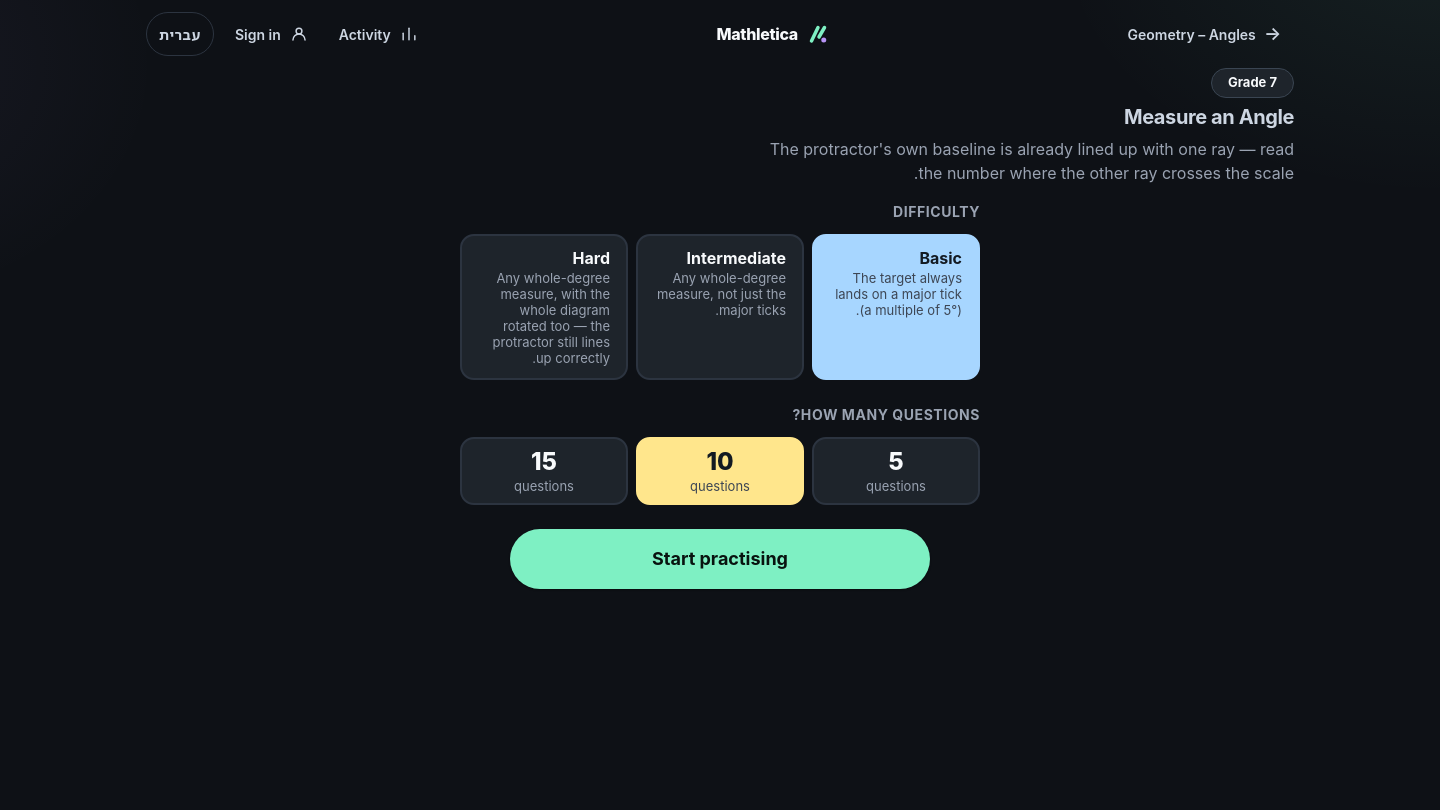
Test case: Measure an Angle training activity (digital protractor) › renders the scene, a protractor overlay with its full tick range, and a numeric input
This screenshot has width=1440, height=810.
Click the button with test id "tr-start" at (720, 558), box [510, 528, 930, 588]
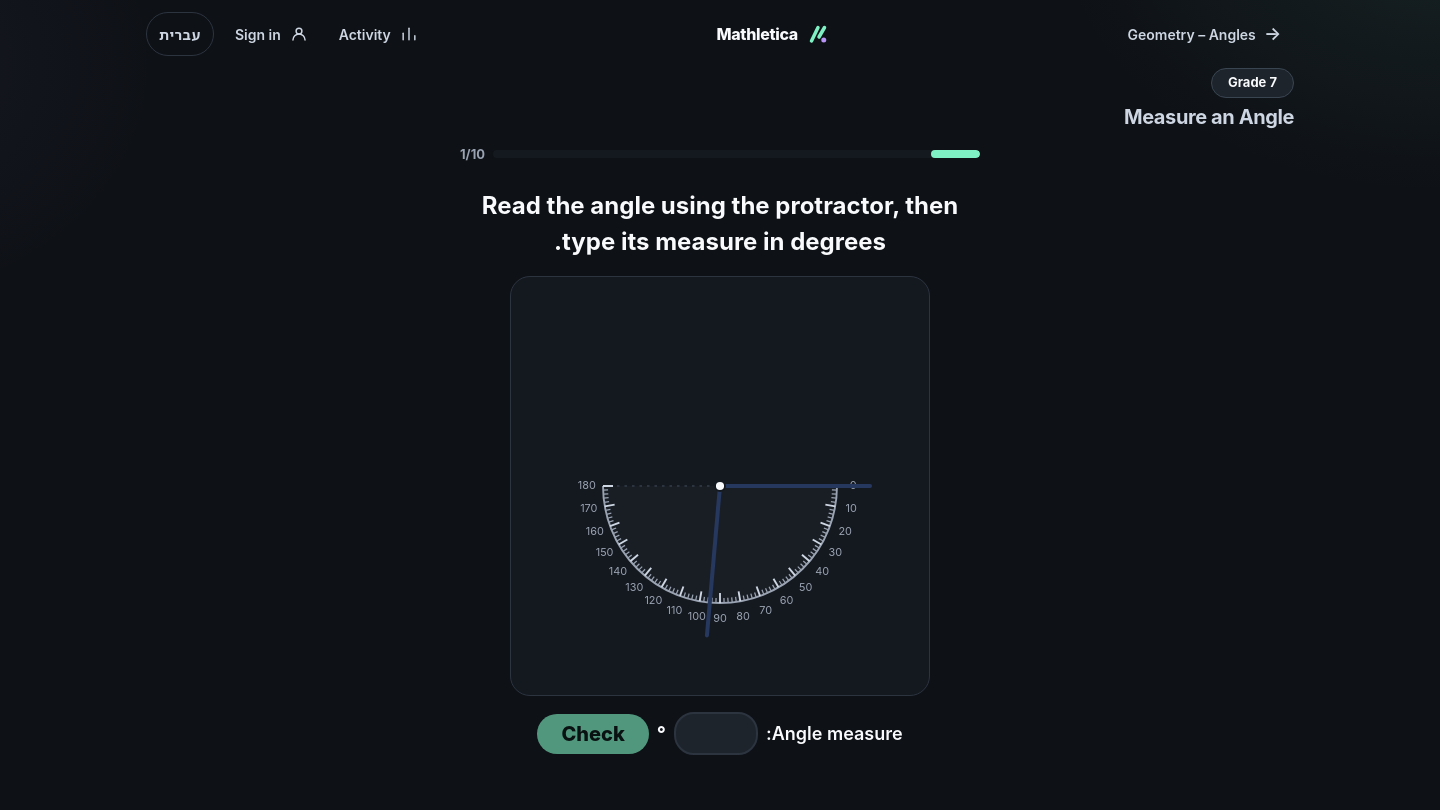
Expected: the element with test id "geo-protractor" is shown, [578, 478, 857, 625]
Result: the picture with class "geo-stage" is shown at [510, 276, 930, 696]
Result: the number field with test id "angles-measure-input" is shown at [674, 712, 758, 755]
